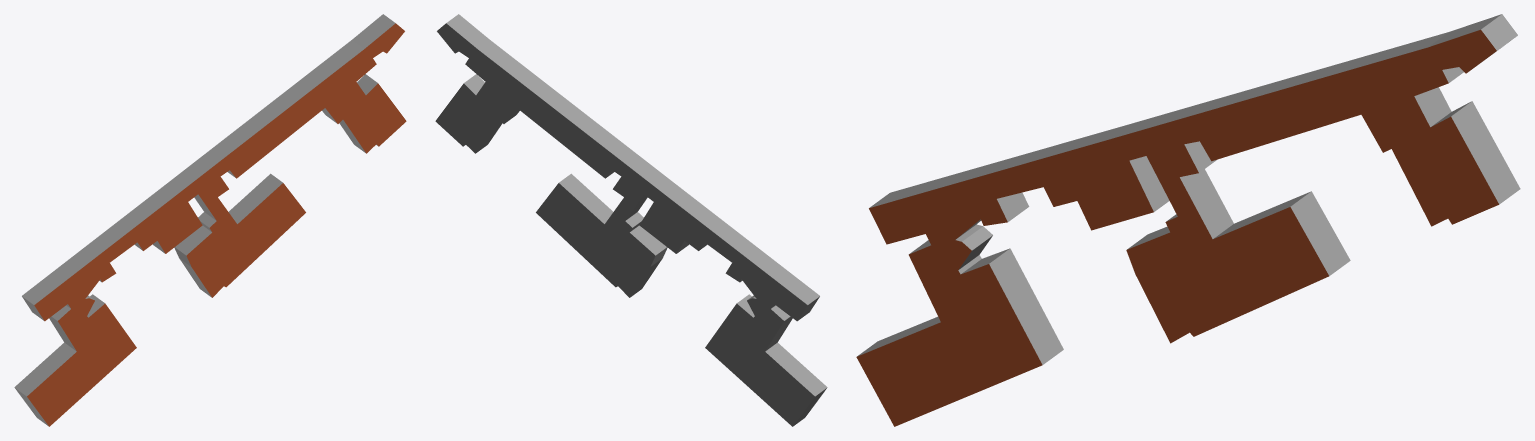
Rendered from construction_1776_assumed_A_Casa_h6m.obj.
The picture shows the model from 3 angles, left to right: view 1: azimuth 30°, elevation 25°; view 2: azimuth 150°, elevation 25°; view 3: azimuth 330°, elevation 25°; orthographic projection. The views are drawn at different scales.
Visible parts, largest first — view 1: construction_1776_assumed_A_Casa; view 2: construction_1776_assumed_A_Casa; view 3: construction_1776_assumed_A_Casa.
Part boxes in pixels (box(x1,y1,x2,y2)): construction_1776_assumed_A_Casa: box(14, 14, 406, 426); construction_1776_assumed_A_Casa: box(435, 14, 827, 426); construction_1776_assumed_A_Casa: box(856, 14, 1520, 426).
Bounding box in the file's own units: 104 × 83.88 × 6.
